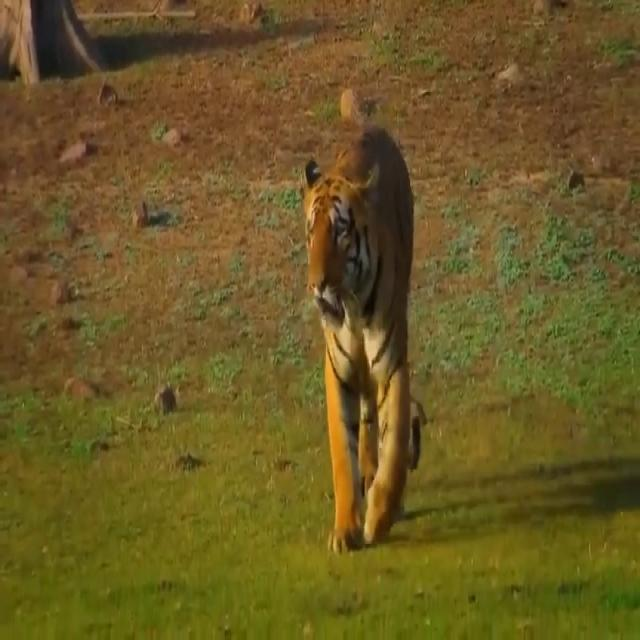tiger: (304, 123, 422, 557)
